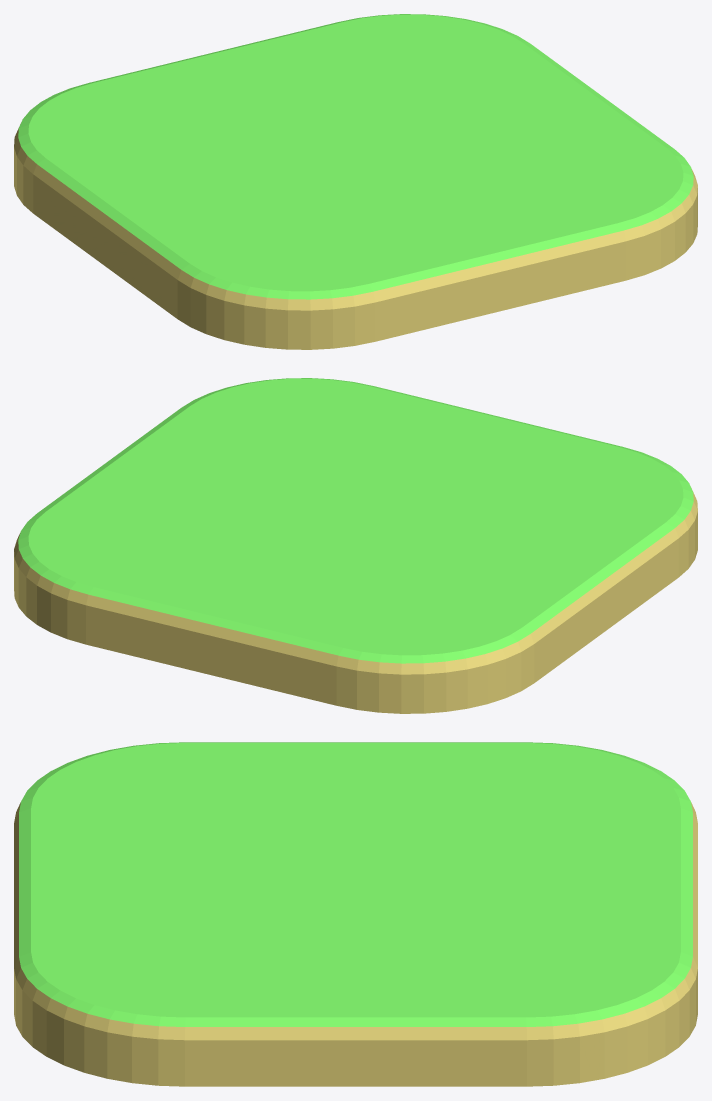
Rendered from island.glb.
3 renders of one model, top to bottom at view 1: azimuth 30°, elevation 25°; view 2: azimuth 150°, elevation 25°; view 3: azimuth 270°, elevation 25°, orthographic. The views are drawn at different scales.
Visible parts, largest first — view 1: Plane; view 2: Plane; view 3: Plane.
Boxes of the visible parts, x1,y1,x2,y2 form: Plane: (14, 14, 697, 349); Plane: (14, 378, 697, 713); Plane: (14, 742, 697, 1086).
Size of the model in its own units: 20 by 2 by 20.
